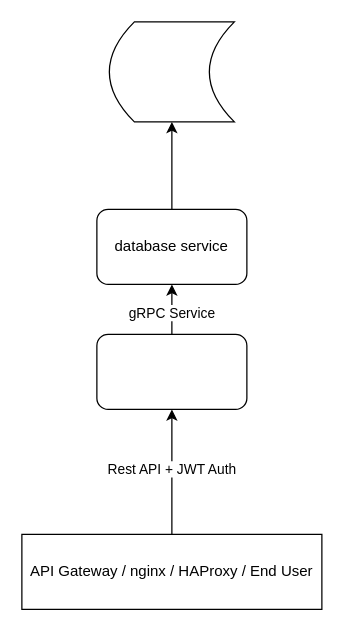
Image size: 344x631. Some labels were removed from this diagram. Each missing label, with the centre of its shape:
"Postgres" goes at (x=171, y=71).
"watermark service" goes at (x=171, y=371).
